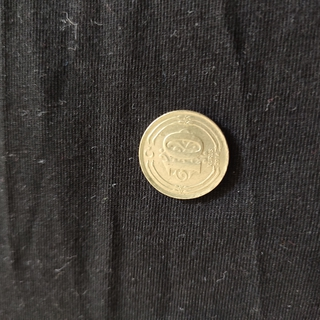10KURUS: (137, 107, 231, 200)
